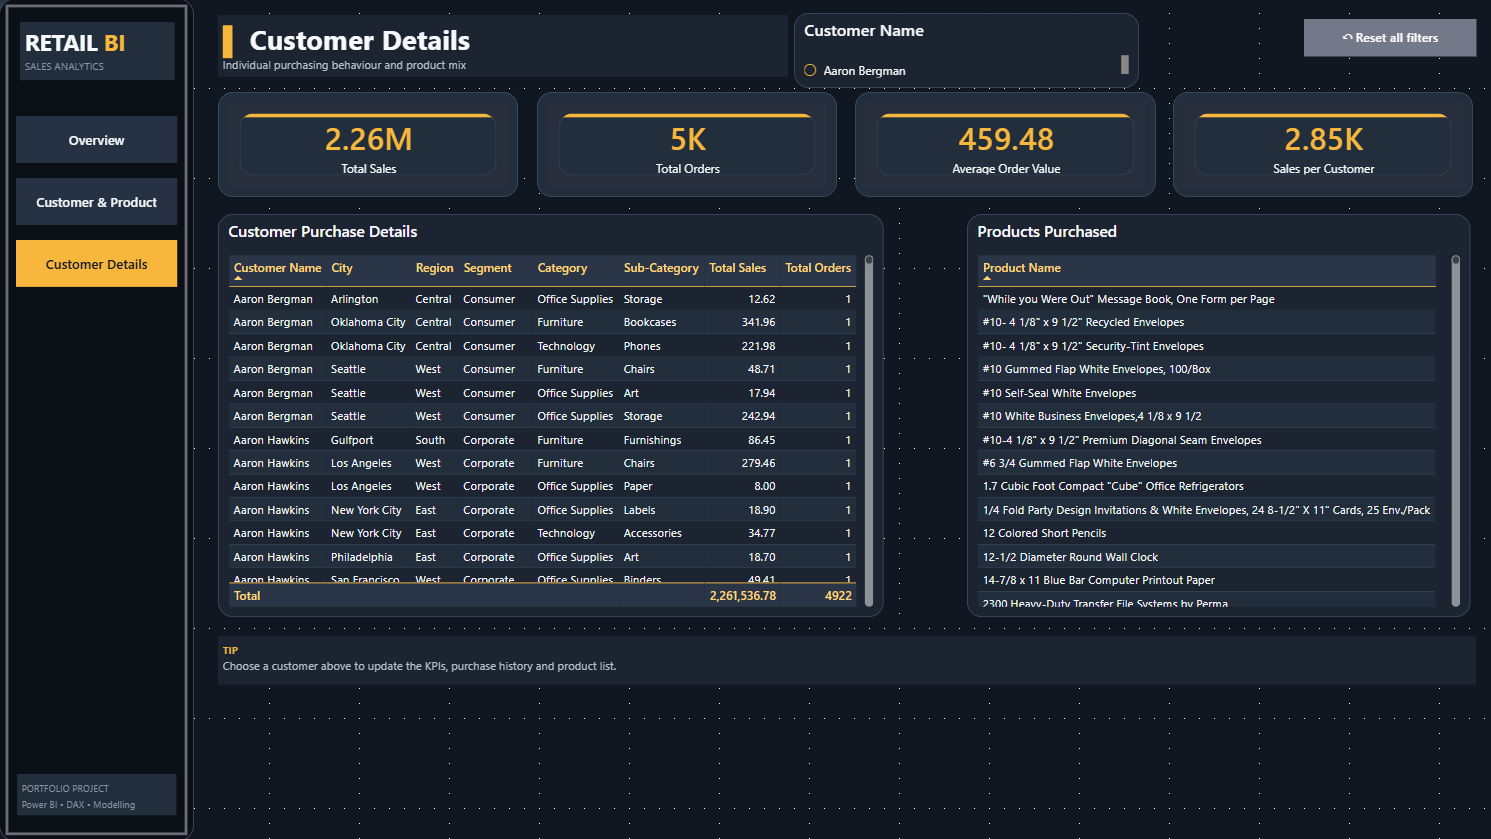

This screenshot's page, from the dashboard's own definition file:
{"tool":"powerbi","page":{"name":"Customer Details","canvas":[1600,900],"ordinal":2},"visuals":[{"type":"textbox","box":[0,0,0.1,0.1],"z":1000},{"type":"textbox","box":[0,0,0.1,0.1],"z":2000},{"type":"textbox","box":[0,0,0.1,0.1],"z":3000},{"type":"textbox","box":[0,0,0.1,0.1],"z":4000},{"type":"actionButton","box":[0,0,208,900],"z":5000},{"type":"textbox","box":[22,26,165,62],"z":6000},{"type":"textbox","box":[19,828,170,44],"z":7000},{"type":"actionButton","box":[18,126,172,50],"z":9000},{"type":"actionButton","box":[18,192,172,50],"z":10000},{"type":"actionButton","box":[18,258,172,50],"z":11000},{"type":"actionButton","box":[1392,22,184,40],"z":12000},{"type":"textbox","box":[234,680,1342,52],"z":13000},{"type":"listSlicer","fields":{"Values":["Sales Data.Customer Name"]},"box":[848,16,368,80],"z":14000},{"type":"cardVisual","fields":{"Data":["Measures (2).Total Sales"]},"box":[234,100,320,112],"z":15000},{"type":"cardVisual","fields":{"Data":["Measures (2).Total Orders"]},"box":[573.5,100,320,112],"z":16000},{"type":"cardVisual","fields":{"Data":["Measures (2).Average Order Value"]},"box":[913,100,321,112],"z":17000},{"type":"tableEx","title":"Products Purchased","fields":{"Values":["Sales Data.Product Name"]},"box":[1033,230,537,430],"z":18000},{"type":"cardVisual","fields":{"Data":["Measures (2).Sales per Customer"]},"box":[1252.5,100,320,112],"z":19000},{"type":"tableEx","title":"Customer Purchase Details","fields":{"Values":["Sales Data.Customer Name","Sales Data.City","Sales Data.Region","Sales Data.Segment","Sales Data.Category","Sales Data.Sub-Category","Measures (2).Total Sales","Measures (2).Total Orders"]},"box":[234,230,710,430],"z":20000},{"type":"textbox","box":[234,18,608,66],"z":21000}]}

Visuals, with their boxes on the page's 1600x900 design canvas (x1, y1, x2, y2). These are canvas units, not pixel positions in the 1491x839 screenshot, which may show the page scaled, cropped or inside an application window:
textbox: (0, 0, 0, 0)
textbox: (0, 0, 0, 0)
textbox: (0, 0, 0, 0)
textbox: (0, 0, 0, 0)
actionButton: (0, 0, 208, 900)
textbox: (22, 26, 187, 88)
textbox: (19, 828, 189, 872)
actionButton: (18, 126, 190, 176)
actionButton: (18, 192, 190, 242)
actionButton: (18, 258, 190, 308)
actionButton: (1392, 22, 1576, 62)
textbox: (234, 680, 1576, 732)
listSlicer - Sales Data.Customer Name: (848, 16, 1216, 96)
cardVisual - Measures (2).Total Sales: (234, 100, 554, 212)
cardVisual - Measures (2).Total Orders: (574, 100, 894, 212)
cardVisual - Measures (2).Average Order Value: (913, 100, 1234, 212)
"Products Purchased" tableEx: (1033, 230, 1570, 660)
cardVisual - Measures (2).Sales per Customer: (1252, 100, 1572, 212)
"Customer Purchase Details" tableEx: (234, 230, 944, 660)
textbox: (234, 18, 842, 84)
